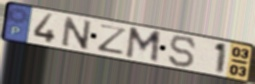1: (213, 42, 230, 75)
4: (31, 13, 58, 46)
M: (124, 26, 163, 65)
N: (61, 15, 94, 51)
S: (168, 35, 198, 69)
Z: (97, 23, 130, 56)
